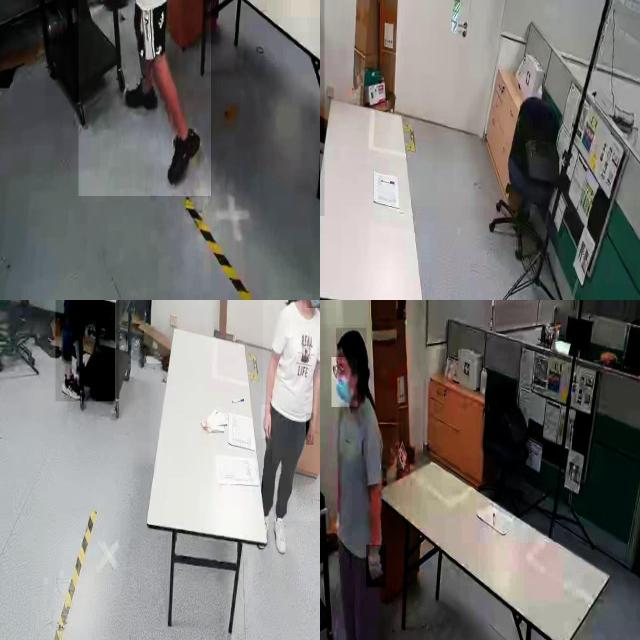face_mask: (332, 357, 358, 407)
hand_glove: (366, 545, 386, 588)
hand_noglove: (261, 405, 271, 439), (306, 413, 314, 446)
head_nohelmet: (336, 328, 367, 360)
person: (78, 0, 211, 197), (320, 324, 397, 640), (263, 300, 320, 522), (55, 300, 115, 402)
shoes: (168, 128, 202, 192), (123, 82, 158, 114), (60, 372, 84, 402), (272, 516, 288, 555)
